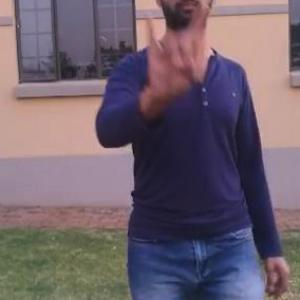takeoff-hand: (136, 4, 212, 109)
